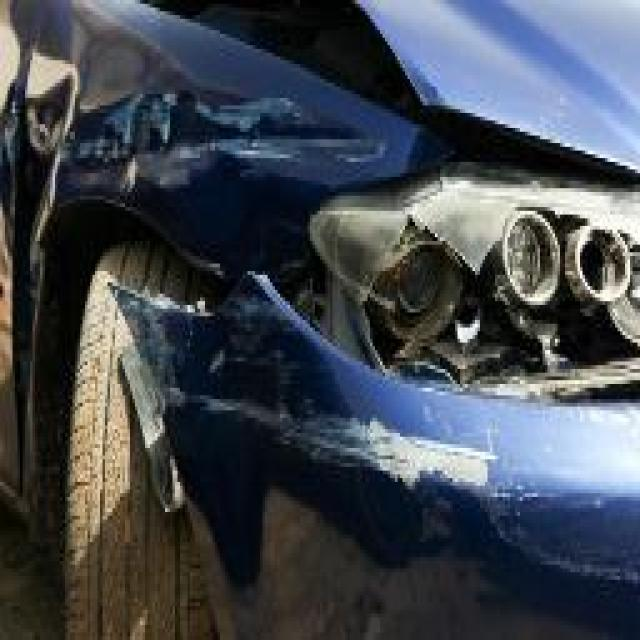Bonnet: (395, 11, 635, 158)
Bumper: (138, 320, 640, 640)
Fender: (28, 34, 322, 241)
Light: (330, 173, 640, 365)
